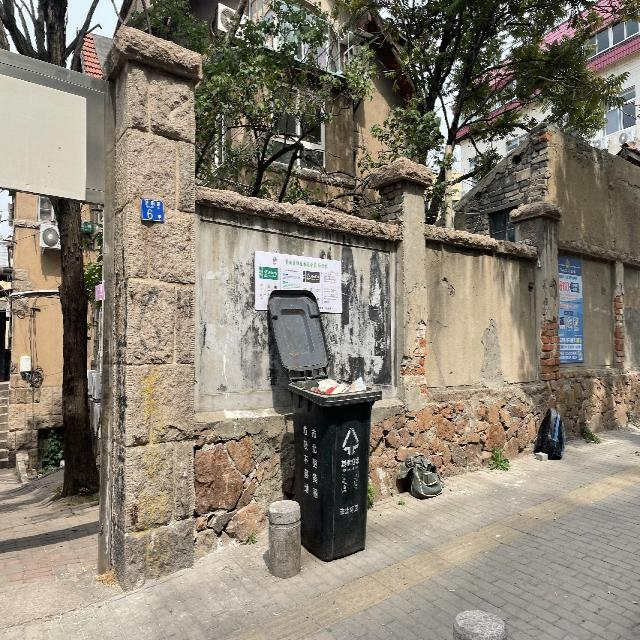overflow: (288, 374, 380, 563)
